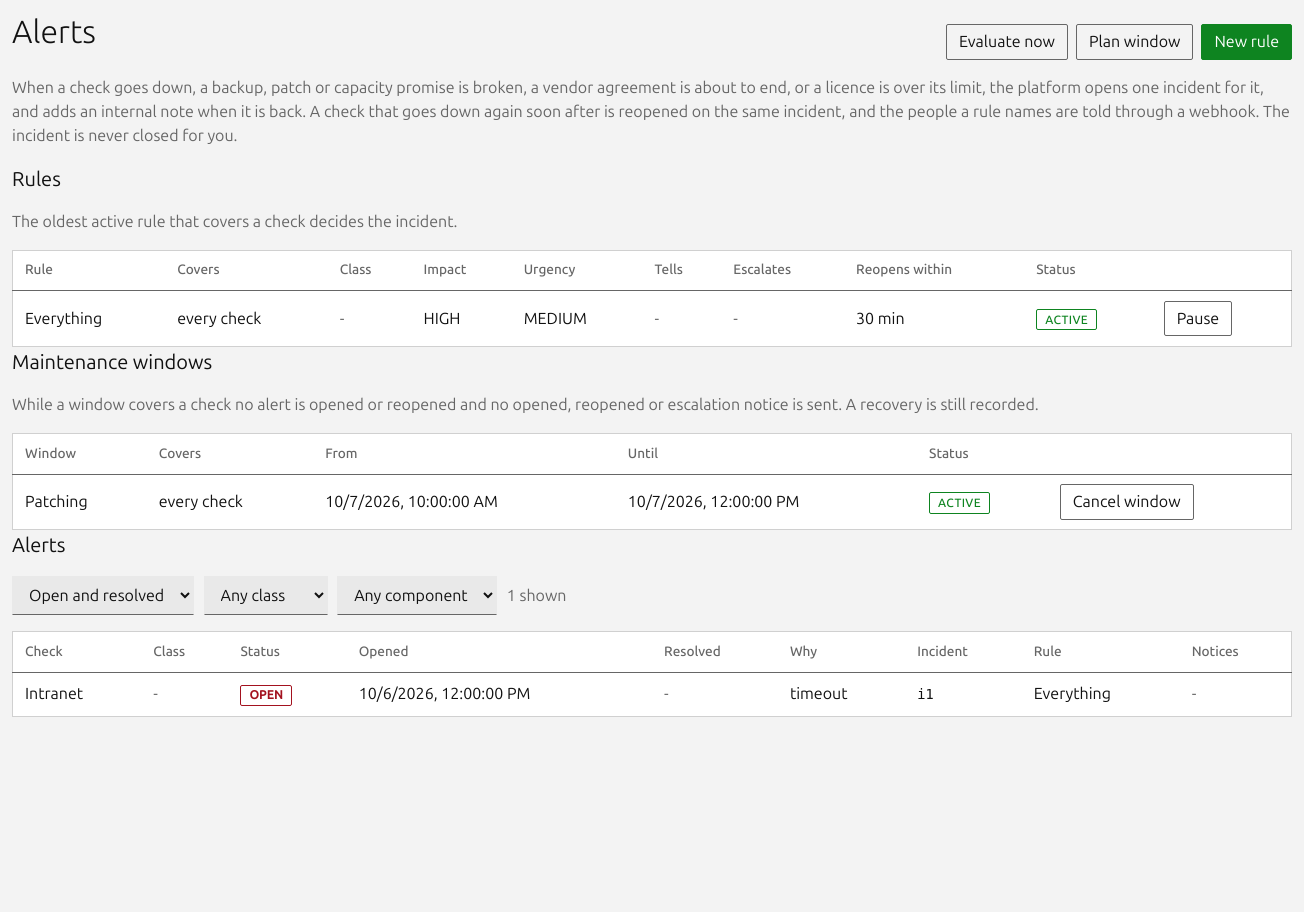
Test: actions › a failed evaluation shows why
This screenshot has width=1304, height=912.
What coordinates should you click on to do the following:
click the button "Evaluate now"
I would click on:
 (1007, 42)
Its box is [946, 24, 1068, 60].
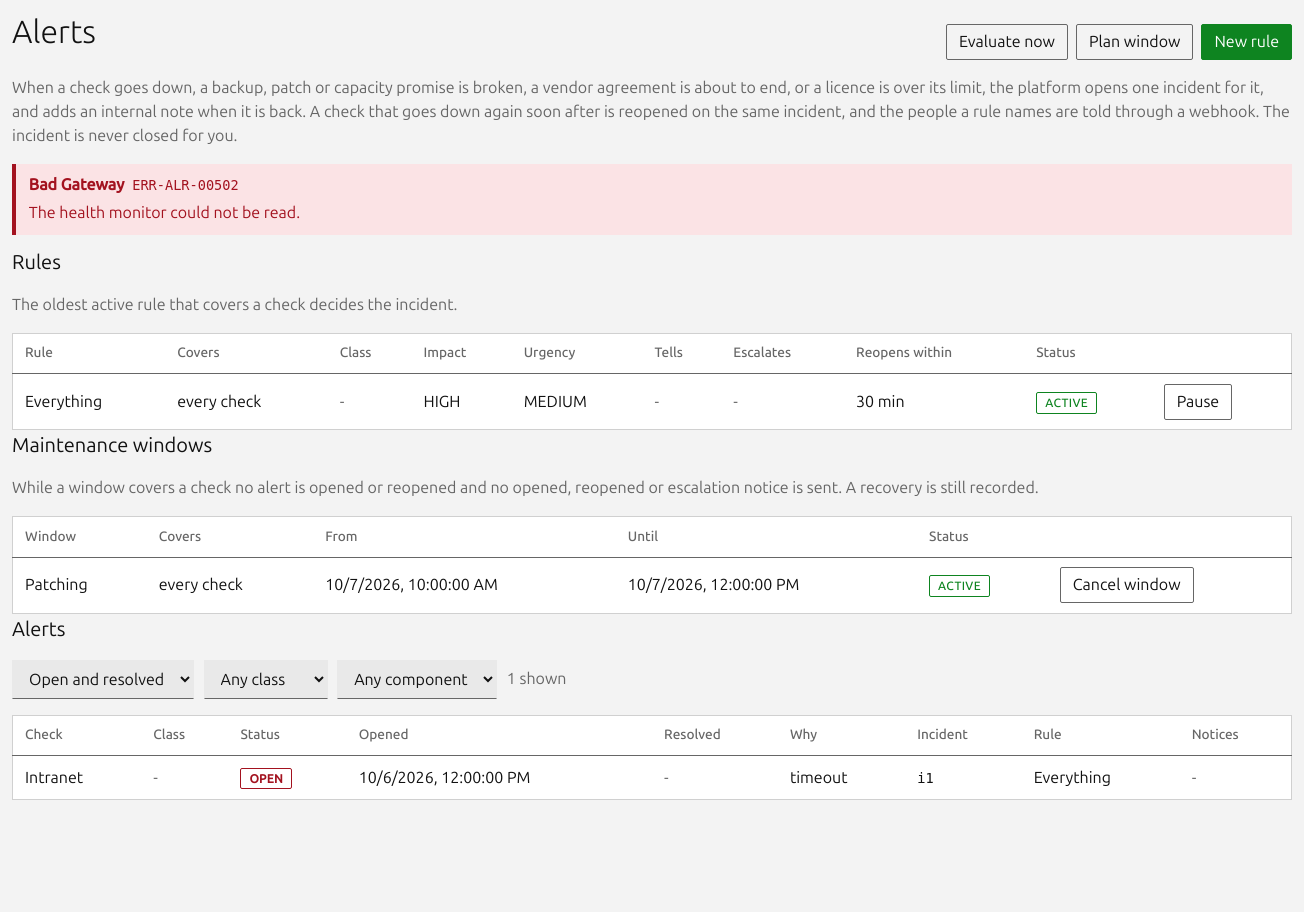
Check: the text "ERR-ALR-00502" is shown, box [132, 177, 239, 193]
